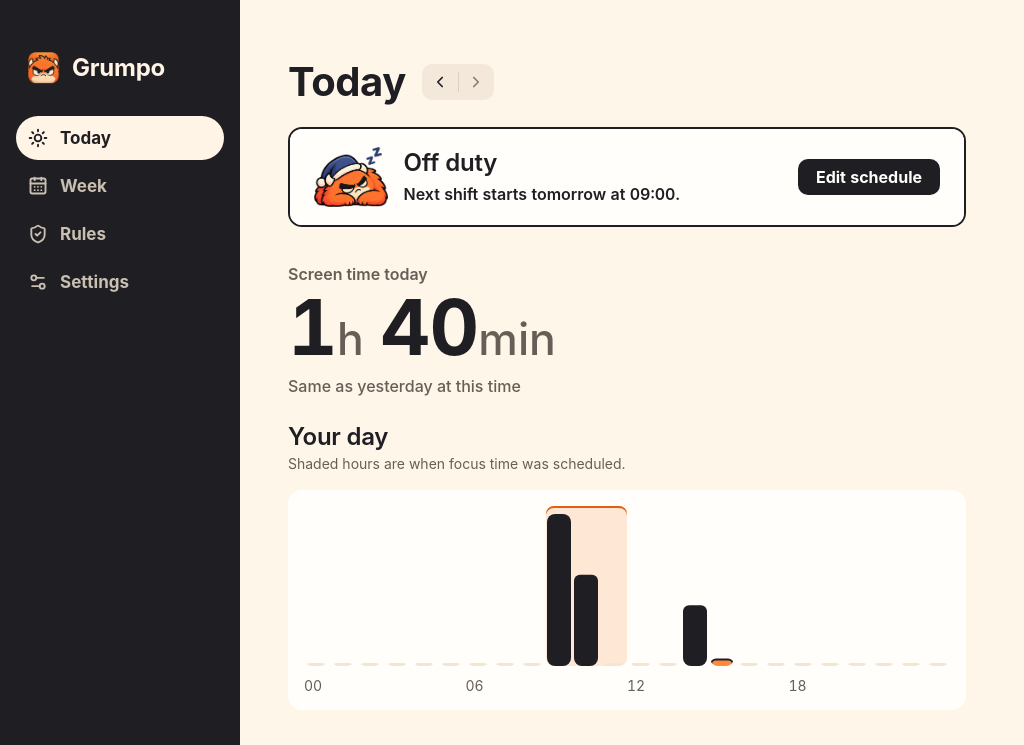
TodayScreen focus times on the chart › leaves the note out when the day has no focus times, as past days have none
The image size is (1024, 745).
Check: the text "Shaded hours are when focus time was scheduled." is shown, box [288,455,626,472]
Click the button named "Previous day" at x=440, y=82, box [422,64,458,100]
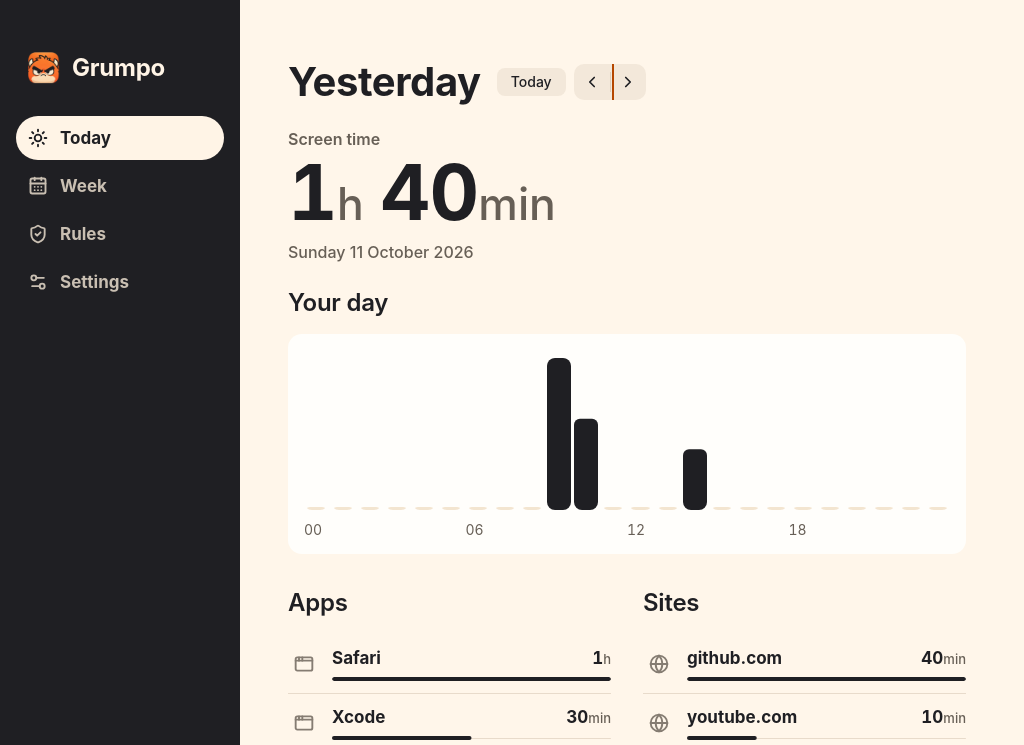
Check: the list named "Screen time by hour" is shown, box [304,350,950,510]
Check: the text "Shaded hours are when focus time was scheduled." is gone
